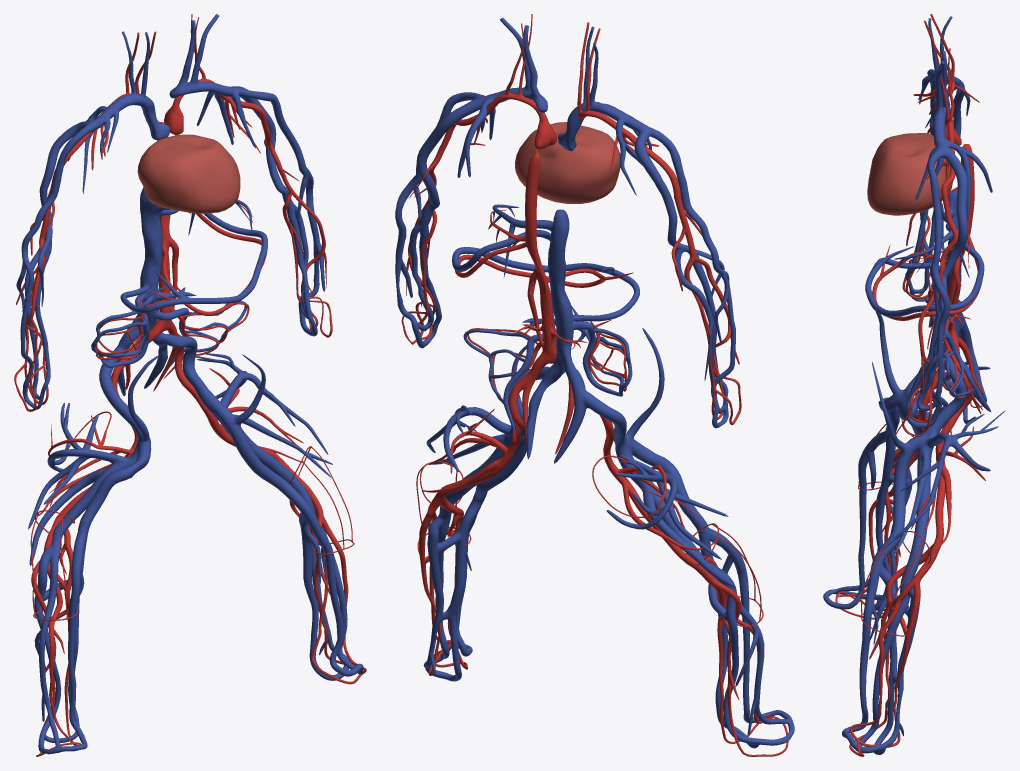
Rendered from pediatric_neonate_male.cardiovascular.LOD0.glb.
3 views of the same model, side by side, from view 1: azimuth 30°, elevation 25°; view 2: azimuth 150°, elevation 25°; view 3: azimuth 270°, elevation 25° (orthographic). The views are drawn at different scales.
Visible parts, largest first — view 1: PEDIATRIC.NEONATE.MALE.CARDIOVASCULAR.BLOOD_IN_LARGE_VEINS, PEDIATRIC.NEONATE.MALE.CARDIOVASCULAR.BLOOD_IN_LARGE_ARTERIE, PEDIATRIC.NEONATE.MALE.CARDIOVASCULAR.HEART_WALL; view 2: PEDIATRIC.NEONATE.MALE.CARDIOVASCULAR.BLOOD_IN_LARGE_VEINS, PEDIATRIC.NEONATE.MALE.CARDIOVASCULAR.BLOOD_IN_LARGE_ARTERIE, PEDIATRIC.NEONATE.MALE.CARDIOVASCULAR.HEART_WALL; view 3: PEDIATRIC.NEONATE.MALE.CARDIOVASCULAR.BLOOD_IN_LARGE_VEINS, PEDIATRIC.NEONATE.MALE.CARDIOVASCULAR.BLOOD_IN_LARGE_ARTERIE, PEDIATRIC.NEONATE.MALE.CARDIOVASCULAR.HEART_WALL.
Boxes of the visible parts, x1=… form: PEDIATRIC.NEONATE.MALE.CARDIOVASCULAR.BLOOD_IN_LARGE_VEINS: x1=16, y1=14, x2=363, y2=754; PEDIATRIC.NEONATE.MALE.CARDIOVASCULAR.BLOOD_IN_LARGE_ARTERIE: x1=14, y1=14, x2=366, y2=756; PEDIATRIC.NEONATE.MALE.CARDIOVASCULAR.HEART_WALL: x1=137, y1=134, x2=240, y2=213; PEDIATRIC.NEONATE.MALE.CARDIOVASCULAR.BLOOD_IN_LARGE_VEINS: x1=395, y1=18, x2=794, y2=748; PEDIATRIC.NEONATE.MALE.CARDIOVASCULAR.BLOOD_IN_LARGE_ARTERIE: x1=401, y1=14, x2=788, y2=756; PEDIATRIC.NEONATE.MALE.CARDIOVASCULAR.HEART_WALL: x1=515, y1=122, x2=620, y2=203; PEDIATRIC.NEONATE.MALE.CARDIOVASCULAR.BLOOD_IN_LARGE_VEINS: x1=823, y1=16, x2=1005, y2=754; PEDIATRIC.NEONATE.MALE.CARDIOVASCULAR.BLOOD_IN_LARGE_ARTERIE: x1=835, y1=14, x2=985, y2=756; PEDIATRIC.NEONATE.MALE.CARDIOVASCULAR.HEART_WALL: x1=867, y1=133, x2=952, y2=215.
Bounding box in the file's own units: 0.1944 × 0.3763 × 0.0949.
